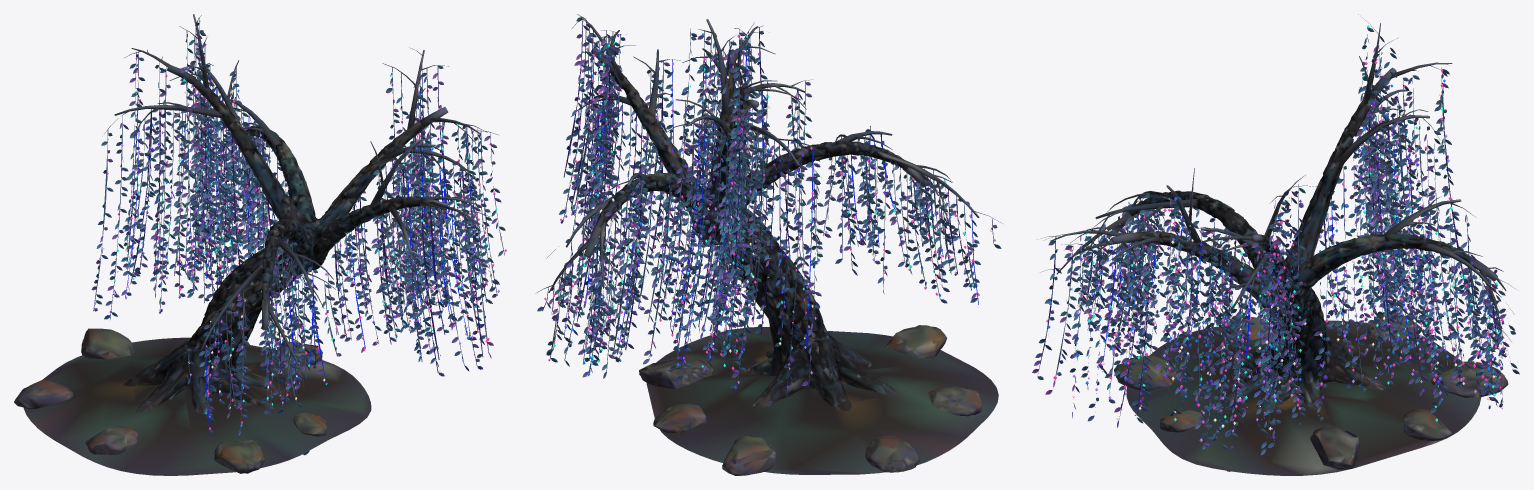
The model's file is agac_isik_sogut.glb.
3 views of the same model, side by side, from view 1: azimuth 30°, elevation 25°; view 2: azimuth 150°, elevation 25°; view 3: azimuth 270°, elevation 25° (orthographic). The views are drawn at different scales.
Visible parts, largest first — view 1: agac_isik_sogut_LOD0; view 2: agac_isik_sogut_LOD0; view 3: agac_isik_sogut_LOD0.
Part boxes in pixels (x1,y1,x2,y2): agac_isik_sogut_LOD0: [14, 14, 506, 475]; agac_isik_sogut_LOD0: [535, 14, 1002, 475]; agac_isik_sogut_LOD0: [1032, 14, 1519, 475].
Size of what is drawn, in the model's own units: 9.61 by 8.86 by 9.18.
2 materials, 1 textured.
